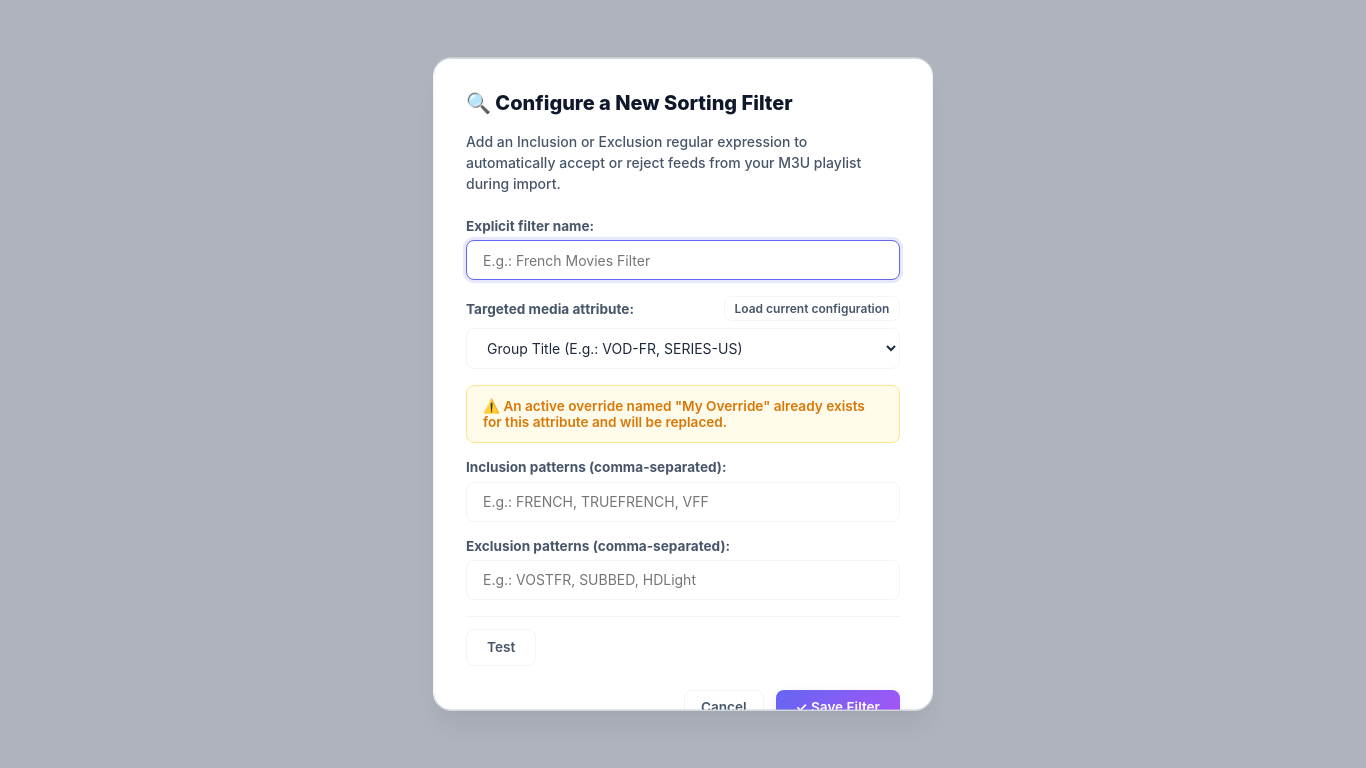
CreateFilterDialog › loads the active override into the form when one exists for the selected attribute
The image size is (1366, 768).
Step 1. Click the button "Load current configuration" → (812, 308), box [724,296,900,321]
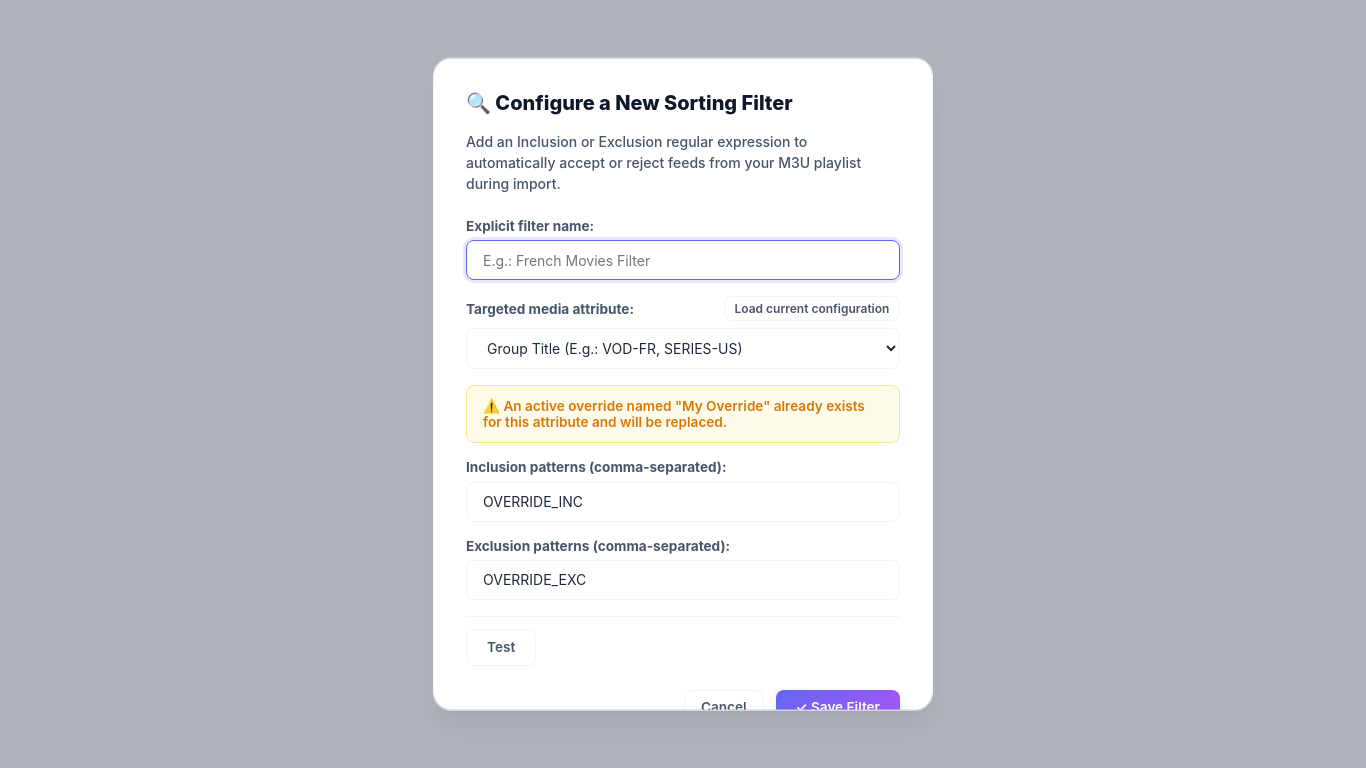
Result: the field with placeholder "E.g.: FRENCH, TRUEFRENCH, VFF" below "Inclusion patterns (comma-separated):" holds "OVERRIDE_INC" at [466,481,900,521]
Result: the field with placeholder "E.g.: VOSTFR, SUBBED, HDLight" below "Exclusion patterns (comma-separated):" holds "OVERRIDE_EXC" at [466,560,900,599]
